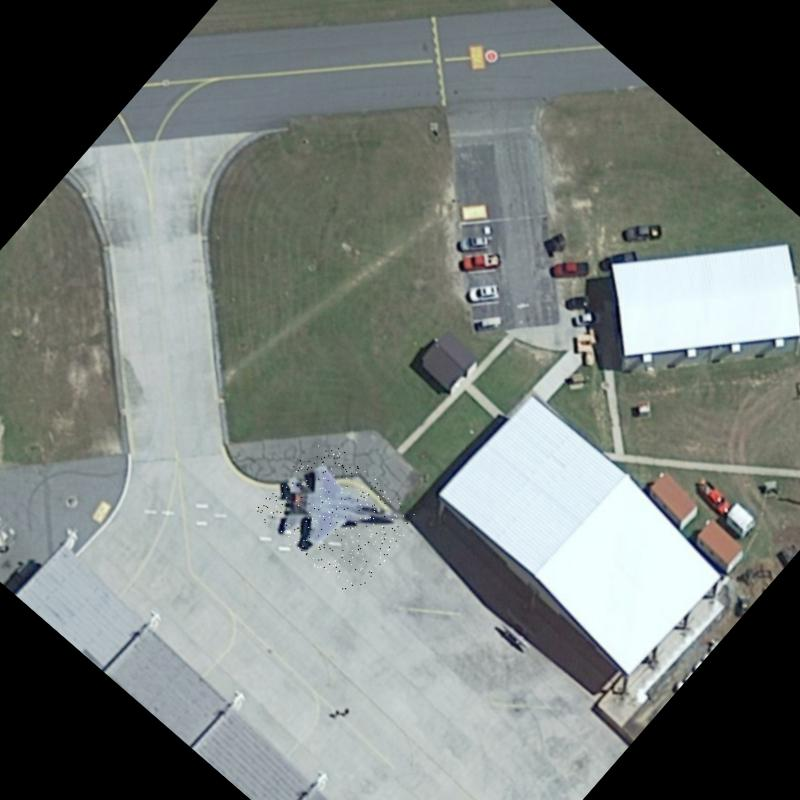A13: (253, 433, 421, 599)
